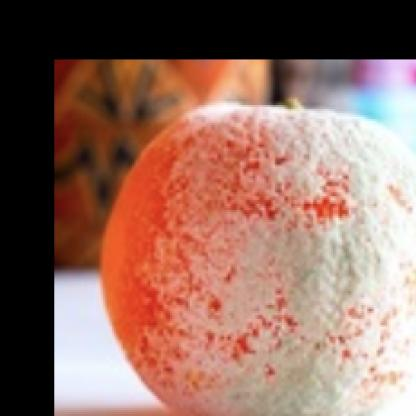rotten: (97, 100, 416, 416)
